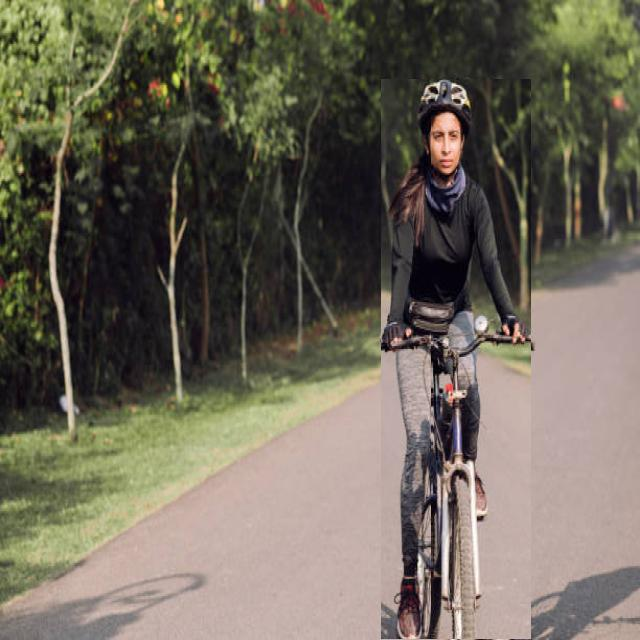bicycle: (381, 79, 531, 639)
